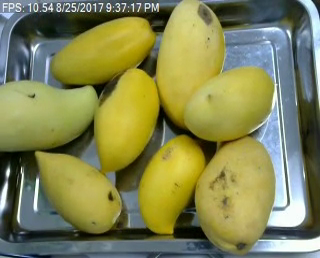Mango: (154, 0, 234, 134), (194, 132, 274, 256), (0, 78, 100, 168), (32, 145, 122, 241), (181, 62, 277, 145), (136, 127, 207, 238), (94, 66, 166, 170), (54, 17, 156, 87)
